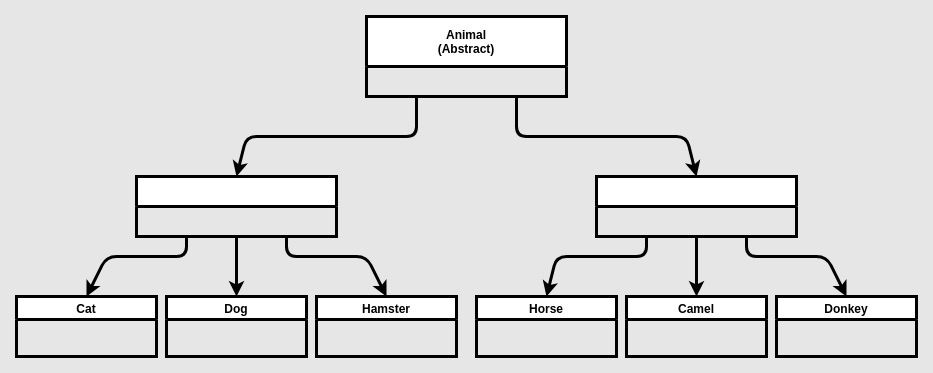
Some shapes in this 933 by 373 pixel diagram are drawn without their labels. The centre of each missing label's shape, as x and y in pixels:
"Pack_Animal (Abstract)" belongs at (x=696, y=206).
"Pet (Abstract)" belongs at (x=236, y=206).
